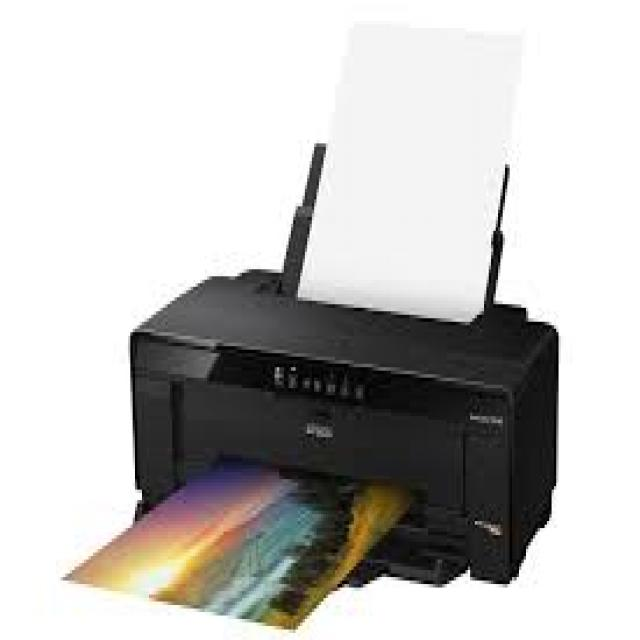printer: (51, 6, 611, 640)
